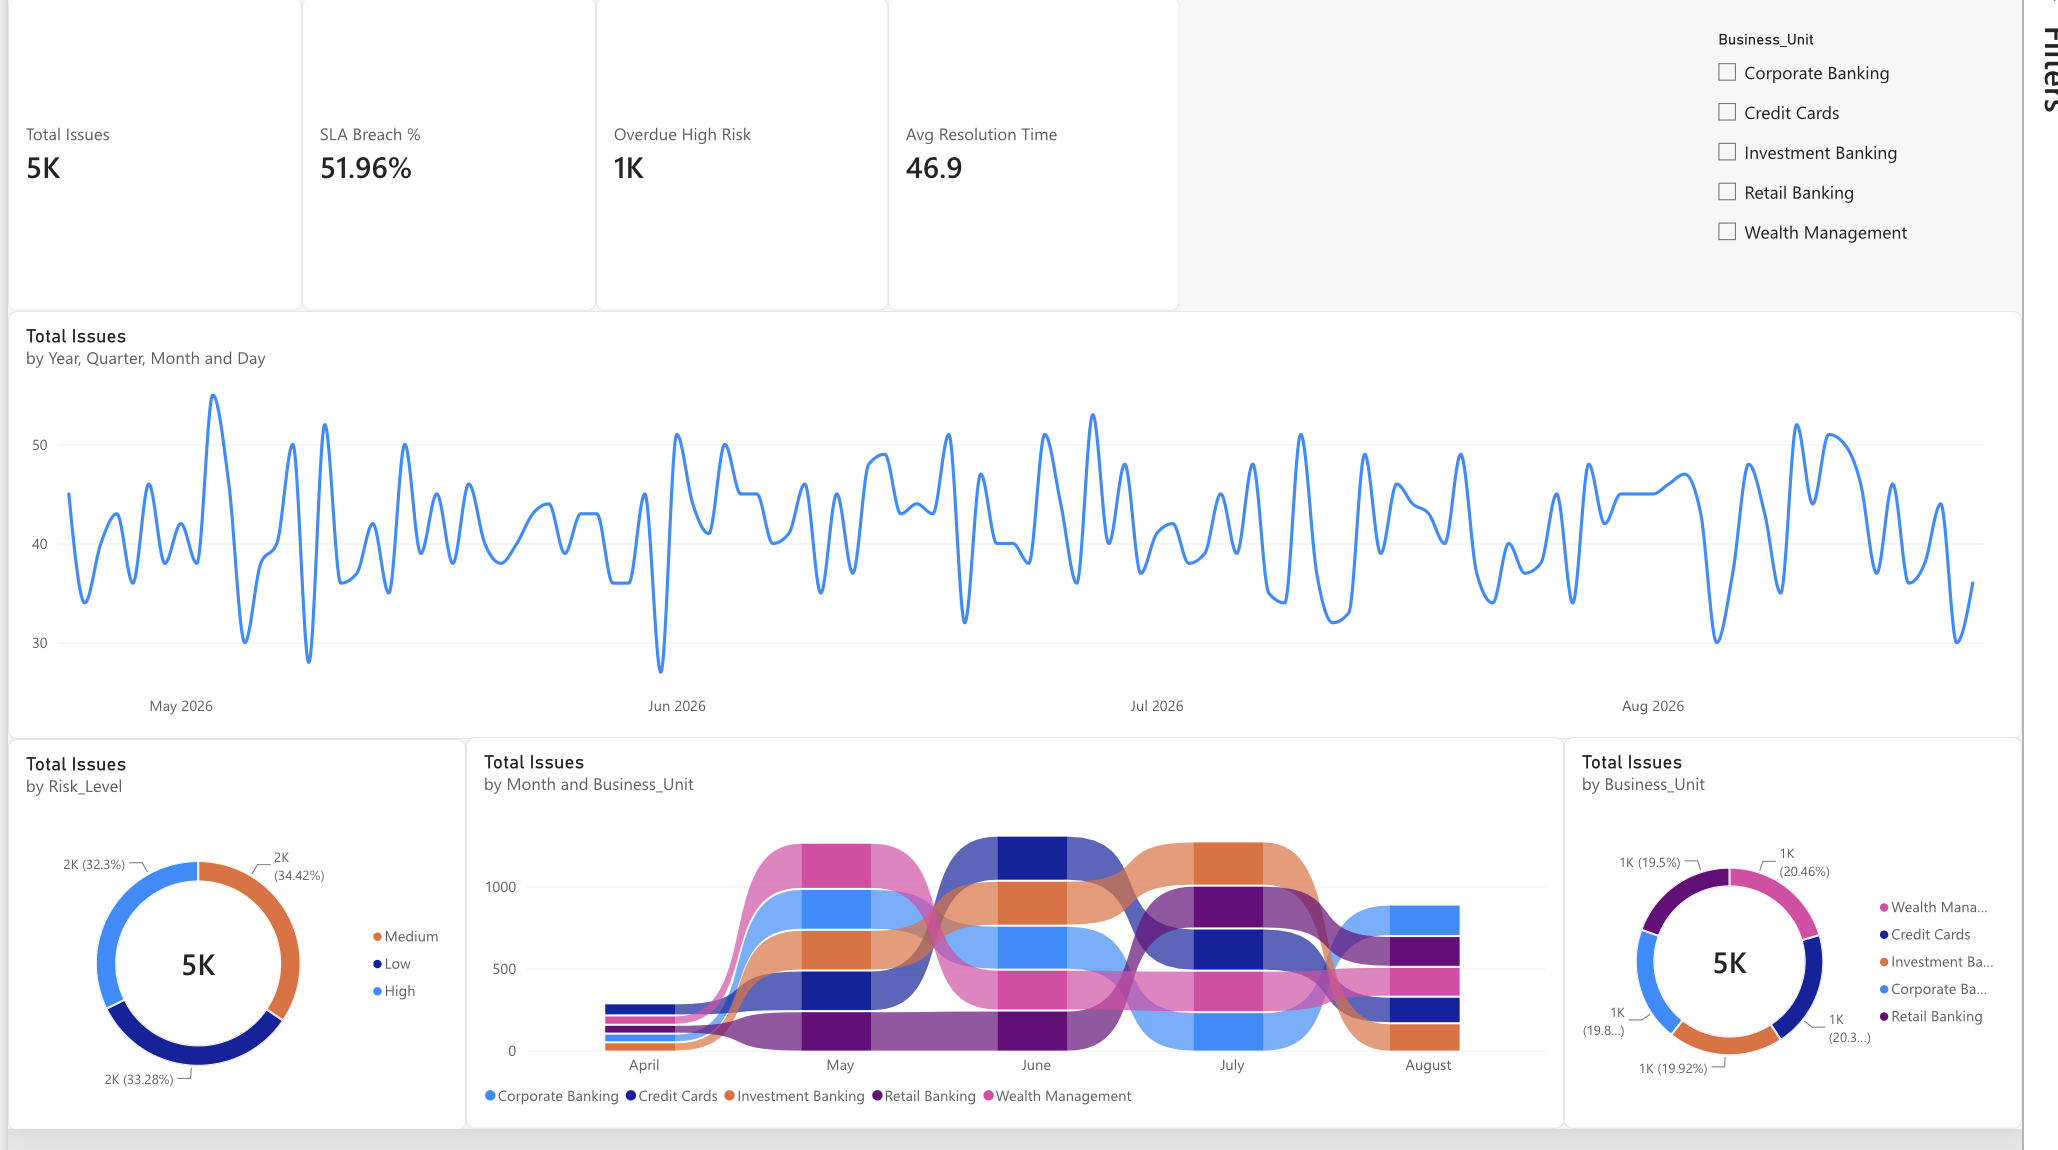

This screenshot's page, from the dashboard's own definition file:
{"tool":"powerbi","page":{"name":"Executive Summary","canvas":[1920,1080],"ordinal":0},"visuals":[{"type":"cardVisual","fields":{"Data":["financial_crimes_governance_logs.Total Issues"]},"box":[0,0,280.3,299.3],"z":0},{"type":"cardVisual","fields":{"Data":["financial_crimes_governance_logs.SLA Breach %"]},"box":[280.3,0,280.3,299.3],"z":1000},{"type":"cardVisual","fields":{"Data":["financial_crimes_governance_logs.Overdue High Risk"]},"box":[560.6,0,278.4,299.3],"z":2000},{"type":"cardVisual","fields":{"Data":["financial_crimes_governance_logs.Avg Resolution Time"]},"box":[838.9,0,278.4,299.3],"z":3000},{"type":"lineChart","fields":{"Category":["financial_crimes_governance_logs.Date_Opened.Variation.Date Hierarchy.Year","financial_crimes_governance_logs.Date_Opened.Variation.Date Hierarchy.Quarter","financial_crimes_governance_logs.Date_Opened.Variation.Date Hierarchy.Month","financial_crimes_governance_logs.Date_Opened.Variation.Date Hierarchy.Day"],"Y":["financial_crimes_governance_logs.Total Issues"]},"box":[0,299.3,1920,408],"z":4000},{"type":"donutChart","fields":{"Category":["financial_crimes_governance_logs.Risk_Level"],"Y":["financial_crimes_governance_logs.Total Issues"]},"box":[0,707.4,436.6,373.7],"z":4001},{"type":"ribbonChart","fields":{"Category":["financial_crimes_governance_logs.Date_Opened.Variation.Date Hierarchy.Year","financial_crimes_governance_logs.Date_Opened.Variation.Date Hierarchy.Quarter","financial_crimes_governance_logs.Date_Opened.Variation.Date Hierarchy.Month","financial_crimes_governance_logs.Date_Opened.Variation.Date Hierarchy.Day"],"Series":["financial_crimes_governance_logs.Business_Unit"],"Y":["financial_crimes_governance_logs.Total Issues"]},"box":[436.6,705.5,1046.8,373.7],"z":4002},{"type":"tableEx","fields":{"Values":["financial_crimes_governance_logs.Business_Unit"]},"box":[1622.6,0,297.4,299.3],"z":4003},{"type":"donutChart","fields":{"Category":["financial_crimes_governance_logs.Business_Unit"],"Y":["financial_crimes_governance_logs.Total Issues"]},"box":[1483.4,705.5,436.6,373.7],"z":4004}]}

Visuals, with their boxes on the page's 1920x1080 design canvas (x1, y1, x2, y2). These are canvas units, not pixel positions in the 2058x1150 screenshot, which may show the page scaled, cropped or inside an application window:
cardVisual - financial_crimes_governance_logs.Total Issues: box=[0, 0, 280, 299]
cardVisual - financial_crimes_governance_logs.SLA Breach %: box=[280, 0, 561, 299]
cardVisual - financial_crimes_governance_logs.Overdue High Risk: box=[561, 0, 839, 299]
cardVisual - financial_crimes_governance_logs.Avg Resolution Time: box=[839, 0, 1117, 299]
lineChart - financial_crimes_governance_logs.Date_Opened.Variation.Date Hierarchy.Year x financial_crimes_governance_logs.Date_Opened.Variation.Date Hierarchy.Quarter: box=[0, 299, 1920, 707]
donutChart - financial_crimes_governance_logs.Risk_Level x financial_crimes_governance_logs.Total Issues: box=[0, 707, 437, 1081]
ribbonChart - financial_crimes_governance_logs.Date_Opened.Variation.Date Hierarchy.Year x financial_crimes_governance_logs.Date_Opened.Variation.Date Hierarchy.Quarter: box=[437, 706, 1483, 1079]
tableEx - financial_crimes_governance_logs.Business_Unit: box=[1623, 0, 1920, 299]
donutChart - financial_crimes_governance_logs.Business_Unit x financial_crimes_governance_logs.Total Issues: box=[1483, 706, 1920, 1079]
